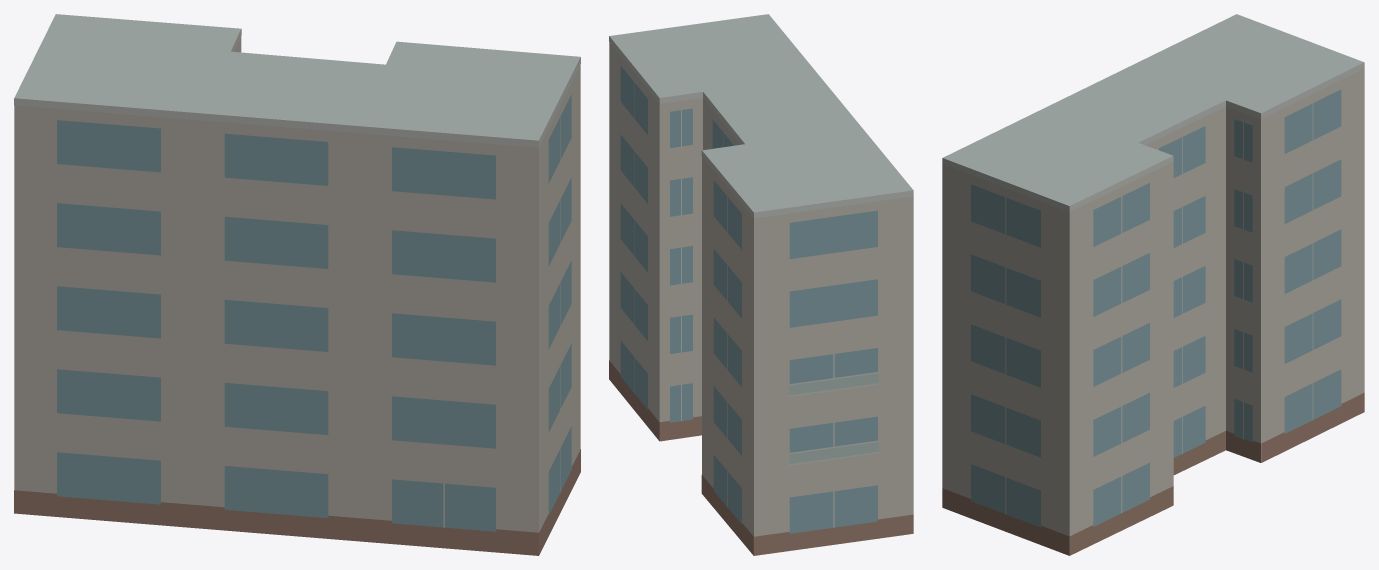
The model's file is survey-upis-32567775.glb.
3 renders of one model, left to right at view 1: azimuth 30°, elevation 25°; view 2: azimuth 150°, elevation 25°; view 3: azimuth 270°, elevation 25°, orthographic. The views are drawn at different scales.
Parts seen in each view (by area): view 1: survey-upis-32567775.tmp; view 2: survey-upis-32567775.tmp; view 3: survey-upis-32567775.tmp.
Part boxes in pixels (box(x1,y1,x2,y2)): survey-upis-32567775.tmp: box(14, 14, 580, 555); survey-upis-32567775.tmp: box(609, 14, 913, 555); survey-upis-32567775.tmp: box(942, 14, 1364, 555).
Bounding box in the file's own units: 16.85 × 14.3 × 15.65.
